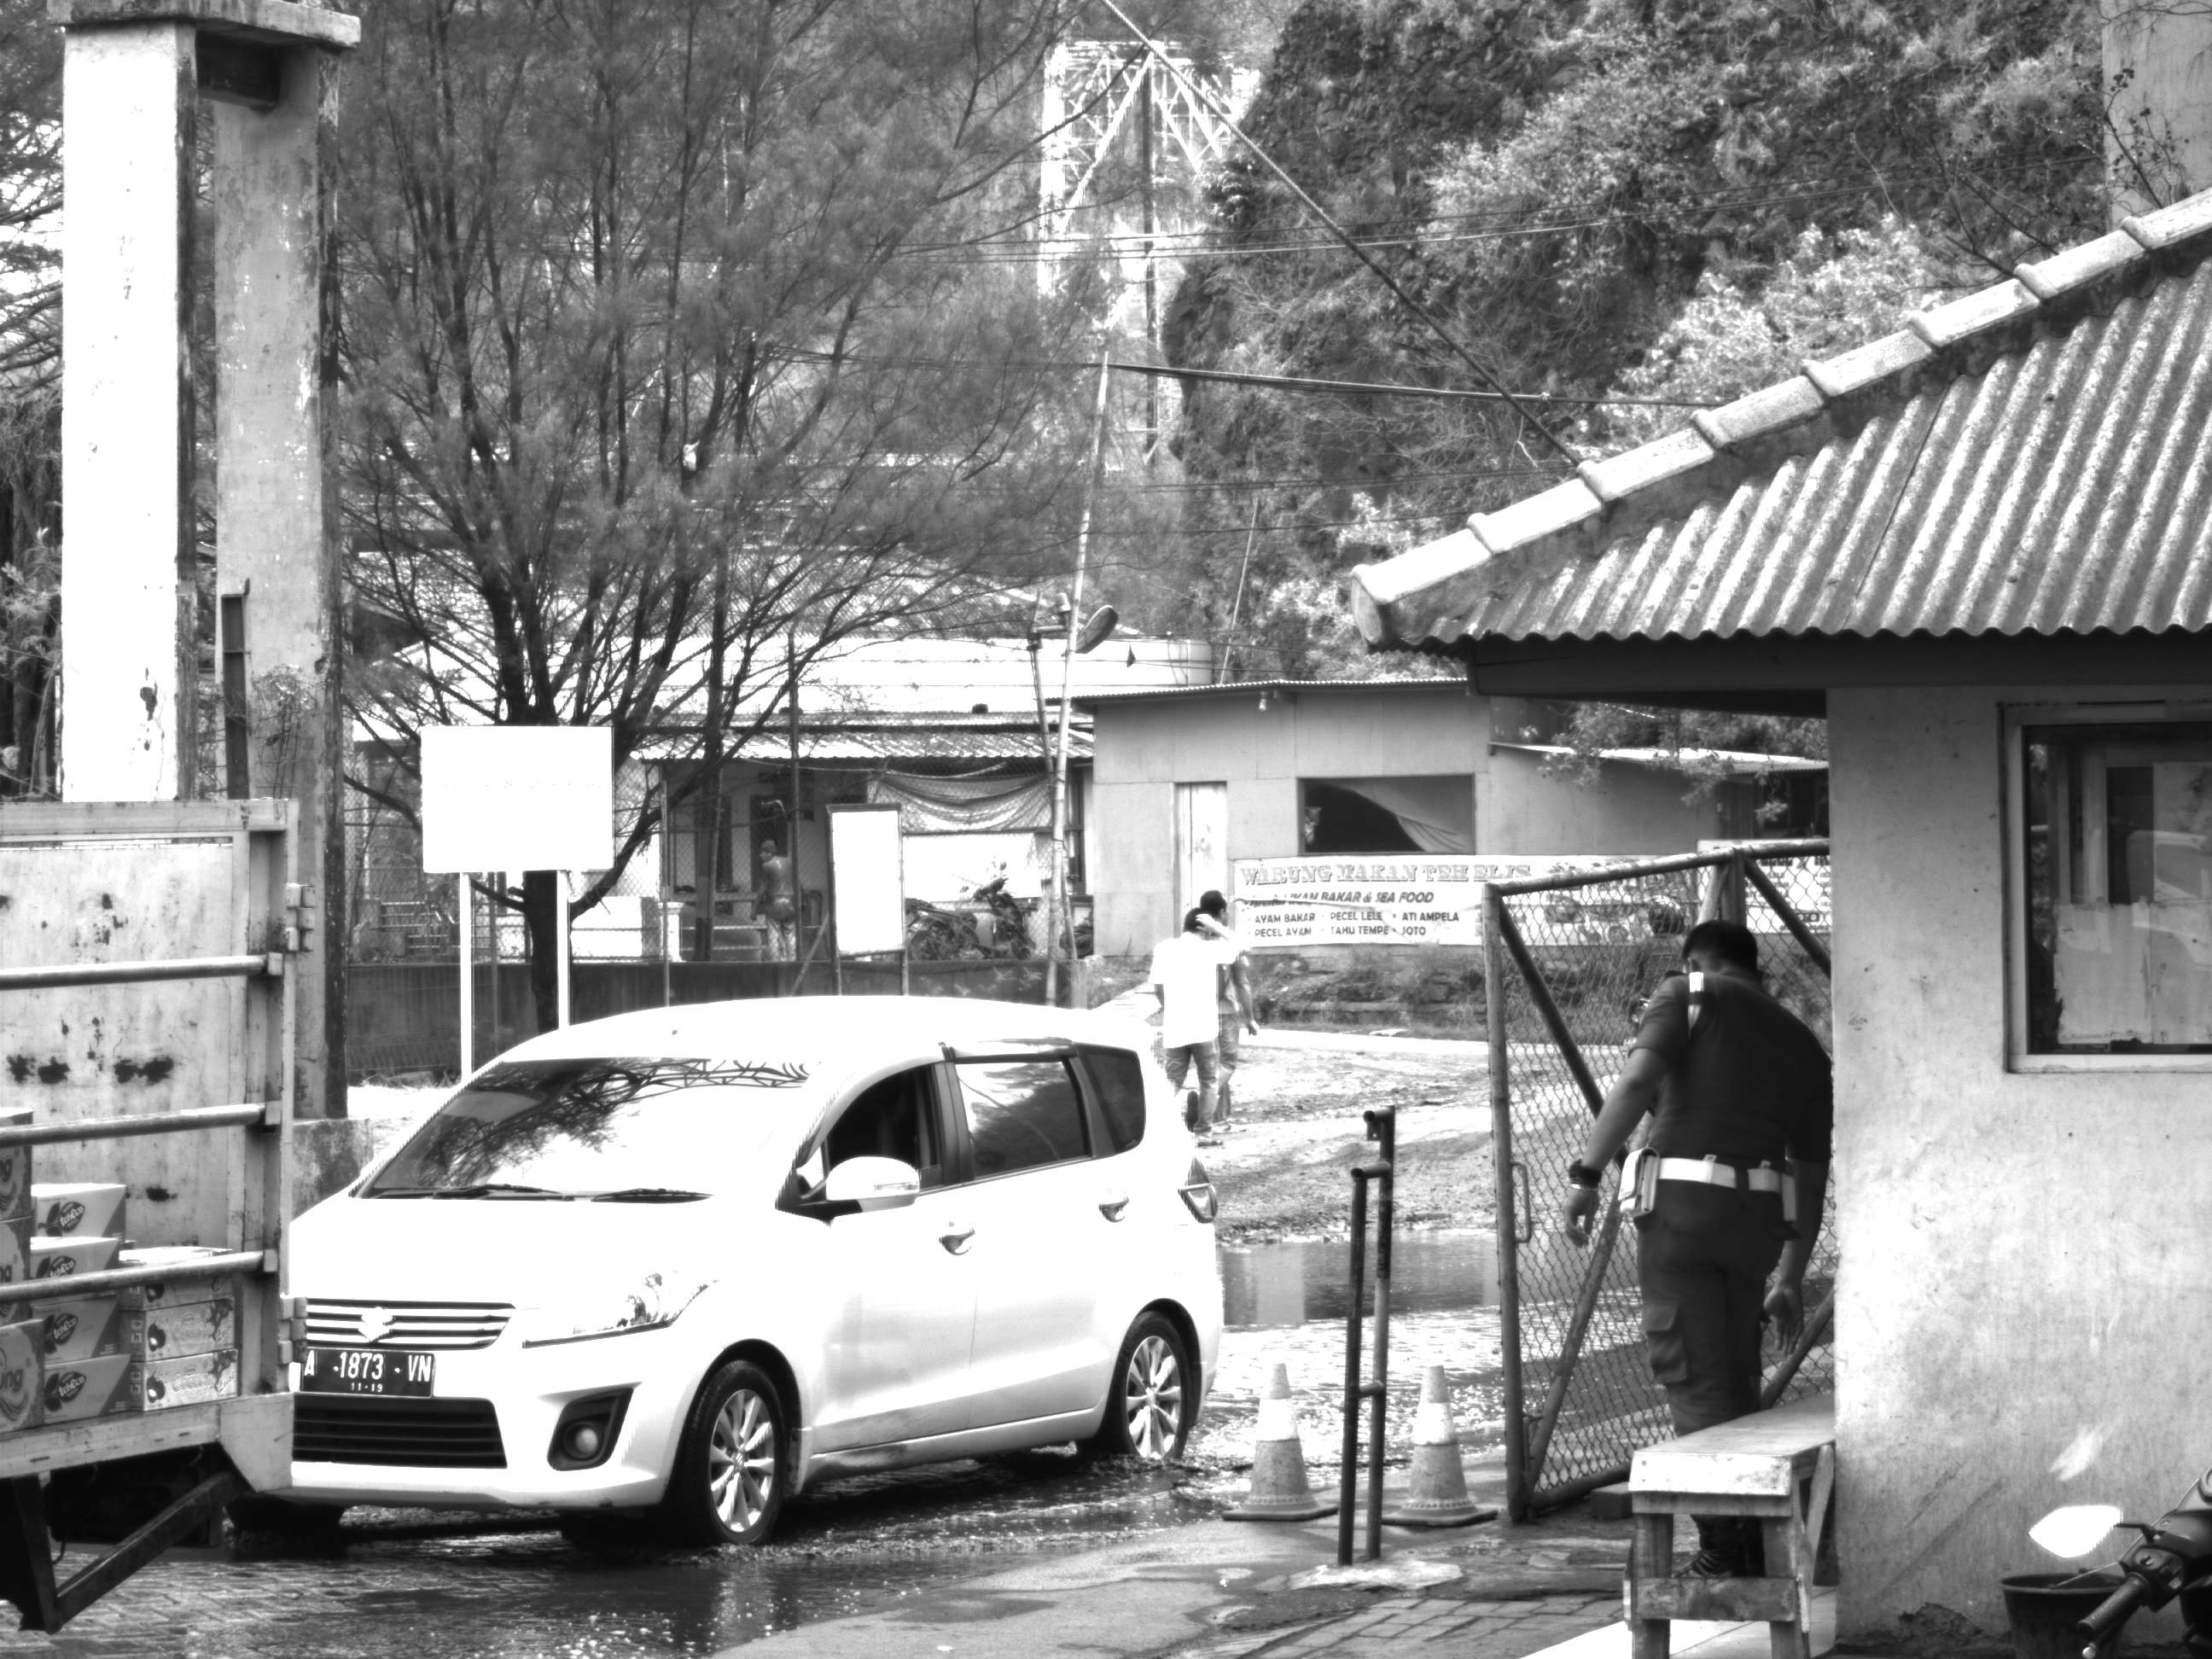day_small_front: (308, 999, 806, 1543)
plate: (300, 1344, 441, 1400)
